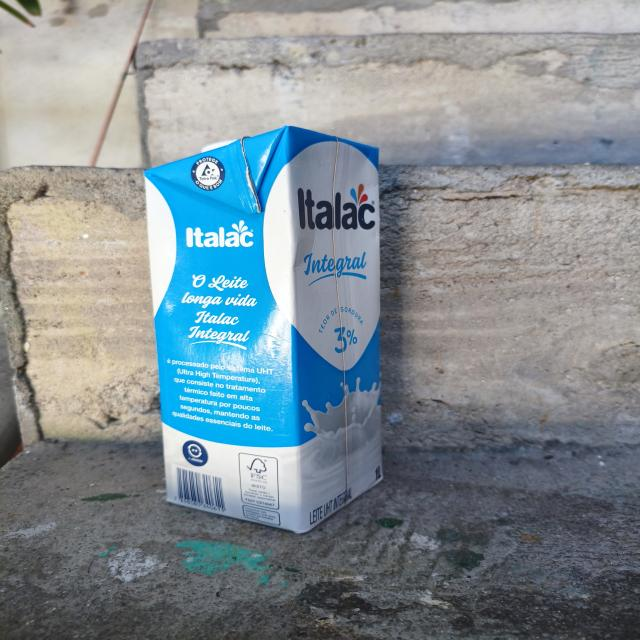Caixa de Leite: (130, 124, 396, 537)
